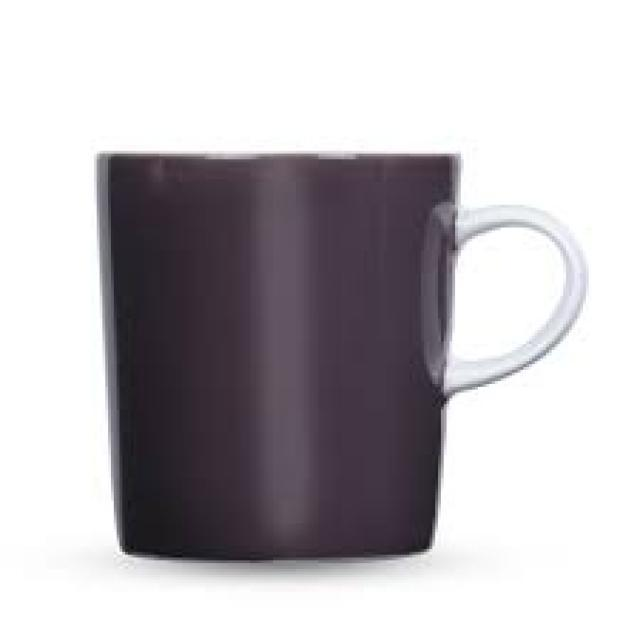taza: (95, 148, 590, 564)
